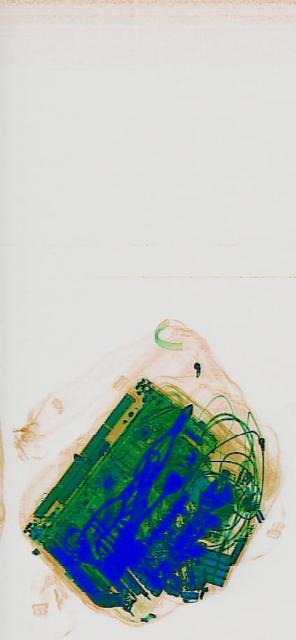Pliers: (129, 386, 195, 500), (74, 464, 140, 560)
